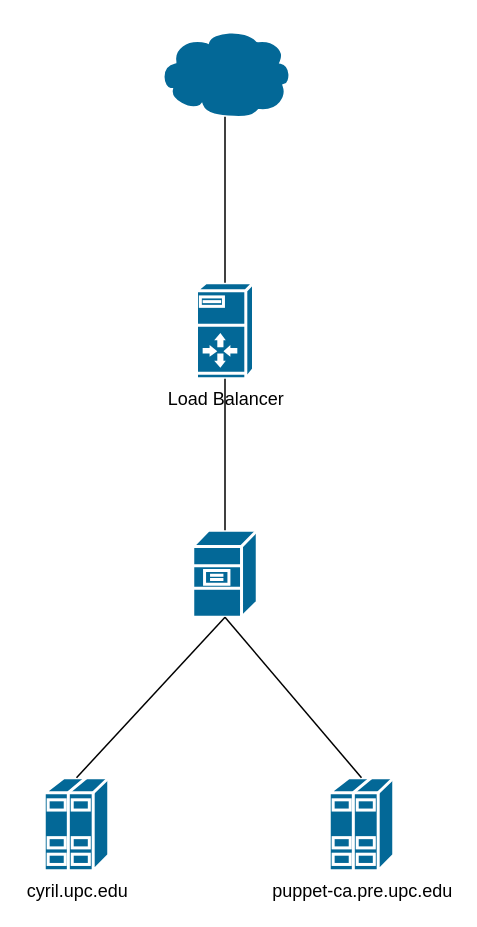
This 477x927 diagram has some shape labels left out. The shapes that lost their labels are listed below. From the top down, each one's box as (x1, y1, x2, y2) in pixels, then its label:
(155, 26, 293, 118): puppet.pre.upc.edu
(190, 528, 258, 618): puppet-m1.pre.upc.edu
